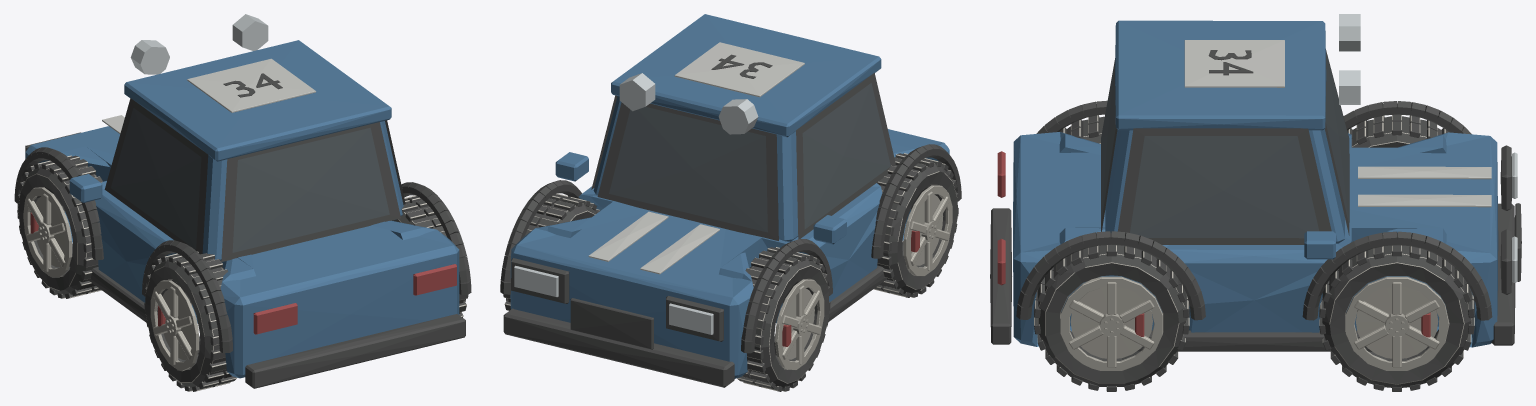
File: car_dirt.glb
3 views of the same model, side by side, from view 1: azimuth 30°, elevation 25°; view 2: azimuth 150°, elevation 25°; view 3: azimuth 270°, elevation 25° (orthographic). The views are drawn at different scales.
Parts seen in each view (by area): view 1: Body.002, WheelMesh.010, WheelMesh.008, WheelMesh.011; view 2: Body.002, WheelMesh.008, WheelMesh.010, WheelMesh.009; view 3: Body.002, WheelMesh.011, WheelMesh.009, WheelMesh.008, WheelMesh.010.
Boxes of the visible parts, x1,y1,x2,y2 form: Body.002: (14,14,471,388); WheelMesh.010: (144,251,236,391); WheelMesh.008: (17,155,102,298); WheelMesh.011: (392,195,468,317); Body.002: (500,14,961,387); WheelMesh.008: (737,247,830,391); WheelMesh.010: (873,153,958,297); WheelMesh.009: (503,193,599,310); Body.002: (990,14,1521,351); WheelMesh.011: (1034,245,1189,391); WheelMesh.009: (1319,232,1474,391); WheelMesh.008: (1347,114,1448,147); WheelMesh.010: (1059,115,1104,143).
Size of the model in its own units: 2.64 by 2.27 by 3.91.
